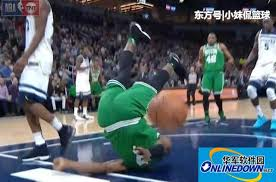10+: (1, 1, 274, 182)
down: (44, 19, 182, 177)
